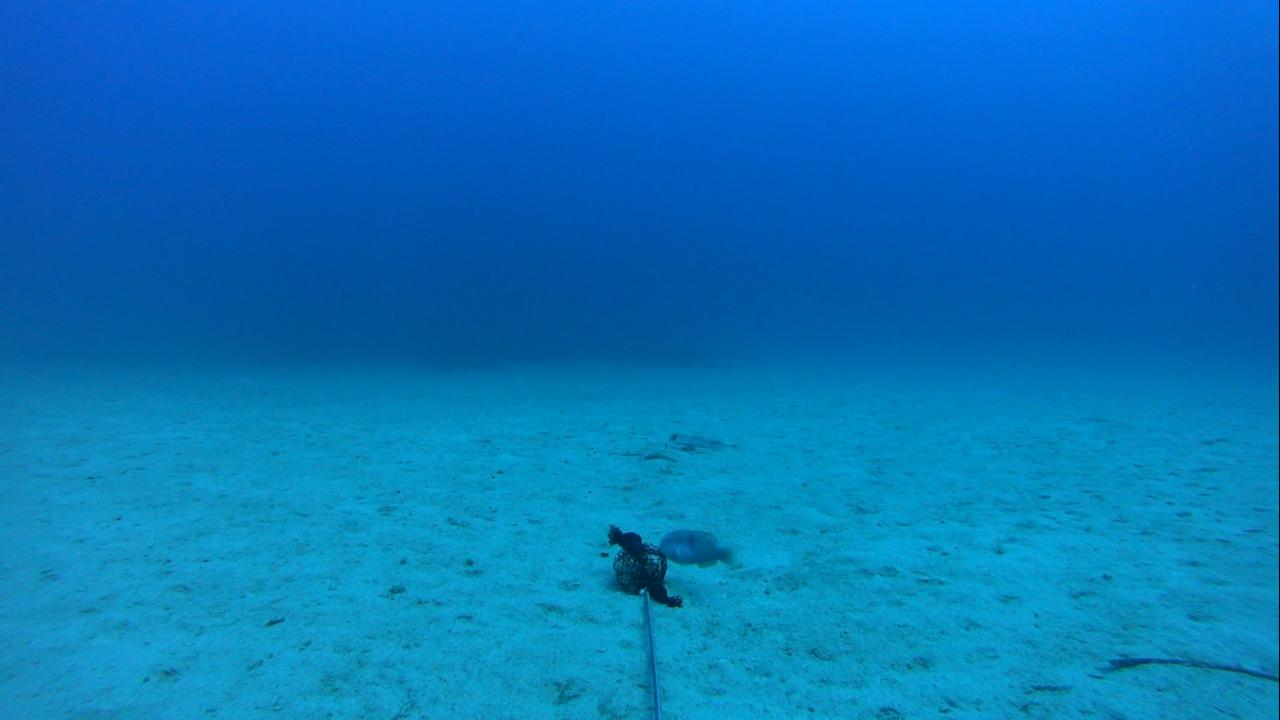dactylopterus: (655, 428, 745, 460), (621, 443, 682, 472)
raor: (653, 523, 736, 572)
